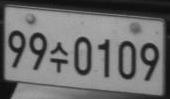0: (73, 36, 92, 75), (117, 40, 136, 79)
1: (95, 38, 114, 78)
9: (140, 42, 160, 81), (28, 31, 47, 70), (7, 29, 26, 67)
수: (49, 41, 69, 73)
